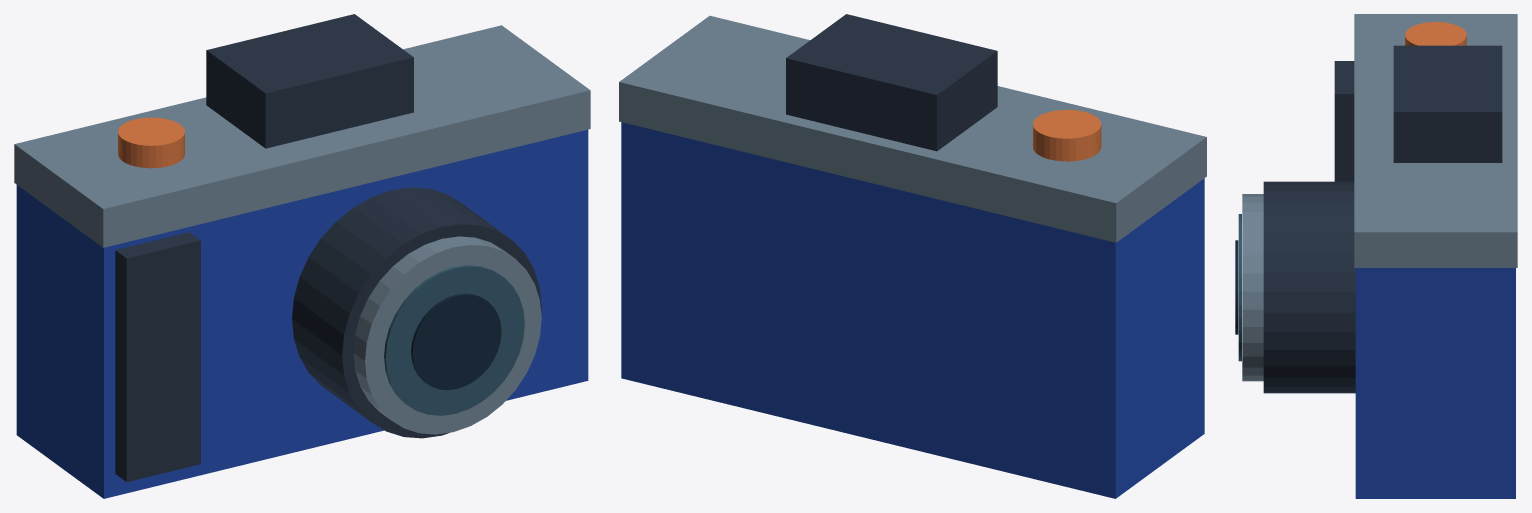
Rendered from camera.glb.
The picture shows the model from 3 angles, left to right: view 1: azimuth 30°, elevation 25°; view 2: azimuth 150°, elevation 25°; view 3: azimuth 270°, elevation 25°; orthographic projection. The views are drawn at different scales.
Visible parts, largest first — view 1: body, silver top, viewfinder, grip, lens barrel, lens ring, lens face, inner glass, shutter; view 2: body, silver top, viewfinder, shutter; view 3: body, silver top, lens barrel, viewfinder, lens ring, grip, shutter, lens face, inner glass.
Boxes of the visible parts, x1,y1,x2,y2 form: body: (16,129,588,498); silver top: (14,25,590,247); viewfinder: (206,14,413,148); grip: (115,232,200,481); lens barrel: (292,187,541,438); lens ring: (353,236,541,434); lens face: (384,265,524,415); inner glass: (411,293,501,390); shutter: (118,117,184,168); body: (621,122,1204,498); silver top: (619,15,1206,242); viewfinder: (786,14,997,151); shutter: (1033,109,1101,161); body: (1355,268,1515,498); silver top: (1354,14,1517,267); lens barrel: (1263,181,1355,393); viewfinder: (1393,45,1502,162); lens ring: (1242,194,1263,381); grip: (1334,61,1354,181); shutter: (1405,22,1466,45); lens face: (1238,214,1241,361); inner glass: (1235,240,1238,334).
Size of the model in its own units: 1.71 by 1.16 by 0.933.
